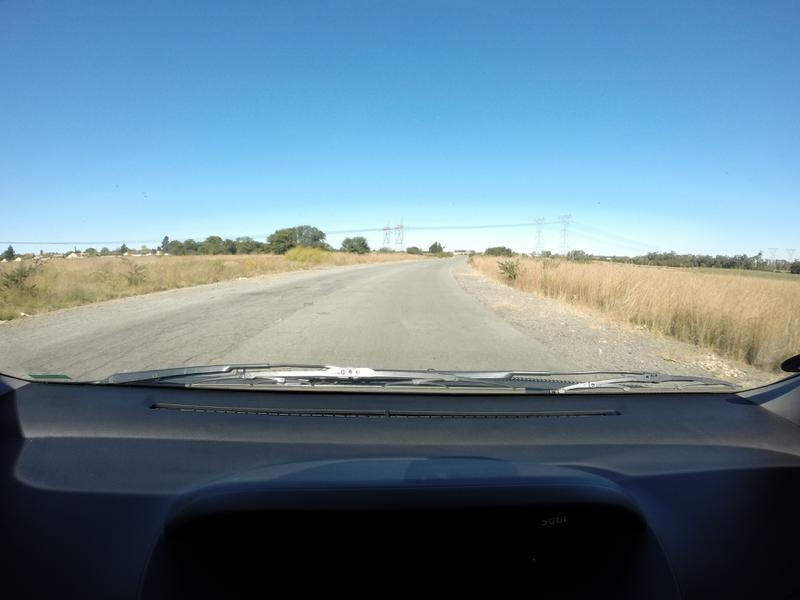pothole: (301, 300, 313, 308), (316, 310, 329, 315)
